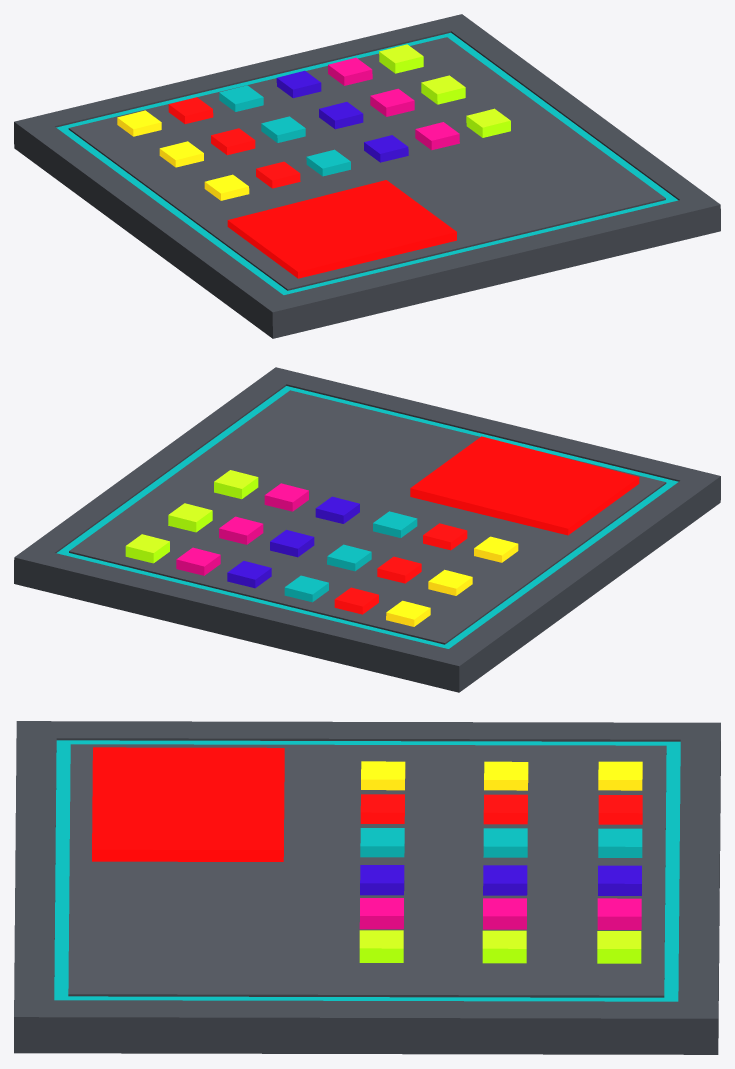
The model's file is Control_Panel.glb.
3 views of the same model, one above another, from view 1: azimuth 30°, elevation 25°; view 2: azimuth 150°, elevation 25°; view 3: azimuth 270°, elevation 25° (orthographic). The views are drawn at different scales.
Visible parts, largest first — view 1: buttons; view 2: buttons; view 3: buttons.
Boxes of the visible parts, x1,y1,x2,y2 form: buttons: [14, 14, 720, 338]; buttons: [14, 367, 720, 692]; buttons: [14, 721, 720, 1054].
Size of what is drawn, in the model's own units: 0.8073 by 0.0648 by 0.8141.
Materials: 1 (1 with a texture image).
